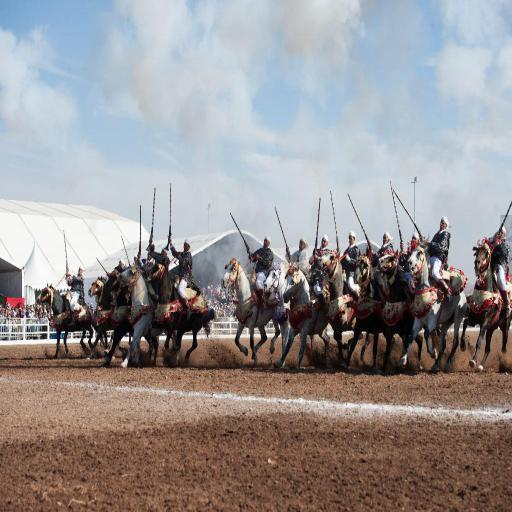horse: (221, 236, 512, 374), (32, 256, 214, 369), (36, 280, 96, 362)
